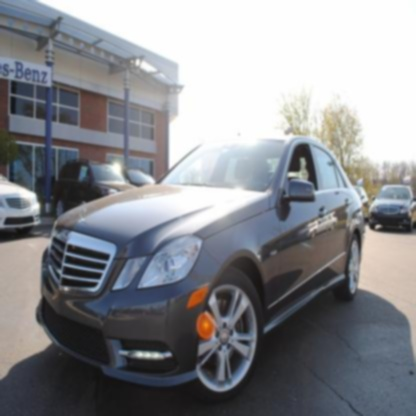Vehicle: (35, 133, 366, 404)
